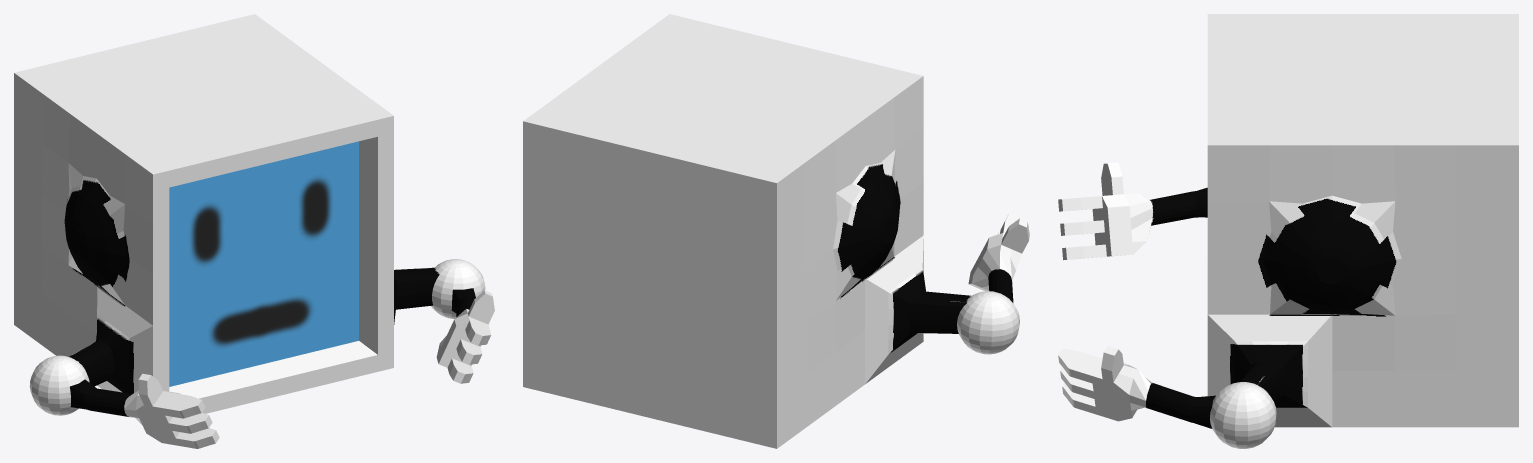
File: robo_9.fbx
3 renders of one model, left to right at view 1: azimuth 30°, elevation 25°; view 2: azimuth 150°, elevation 25°; view 3: azimuth 270°, elevation 25°, orthographic. The views are drawn at different scales.
Visible parts, largest first — view 1: 立方体; view 2: 立方体; view 3: 立方体.
Boxes of the visible parts, x1,y1,x2,y2 form: 立方体: (14,14,494,448); 立方体: (523,14,1029,448); 立方体: (1058,14,1518,448).
Size of the model in its own units: 199 by 107 by 159.
Materials: 1 (1 with a texture image).
